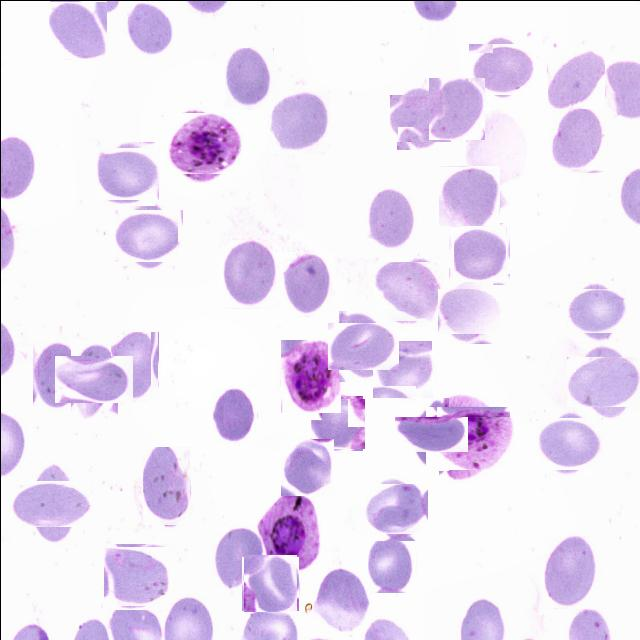red blood cell: (18, 470, 84, 536), (376, 258, 440, 324), (572, 349, 636, 413), (104, 544, 168, 608), (62, 347, 125, 410), (542, 535, 596, 608), (222, 239, 278, 308), (268, 90, 329, 153), (142, 446, 190, 525), (312, 569, 368, 635), (118, 204, 179, 264), (550, 106, 605, 172), (539, 413, 599, 473), (373, 339, 433, 399), (438, 166, 498, 226), (332, 316, 392, 375), (213, 522, 264, 591), (471, 40, 530, 98), (428, 77, 483, 139), (32, 340, 80, 411), (282, 251, 334, 316), (99, 144, 157, 202), (450, 224, 508, 282), (547, 49, 604, 108), (110, 331, 158, 401), (48, 1, 106, 58), (366, 186, 416, 252), (367, 480, 424, 537), (242, 554, 298, 610), (224, 46, 273, 108), (442, 283, 497, 338), (280, 438, 333, 495), (403, 406, 457, 461), (392, 90, 447, 144), (367, 532, 415, 592), (569, 284, 622, 337), (311, 396, 363, 449), (124, 1, 172, 56), (212, 388, 256, 443)
schizont: (432, 400, 508, 476)
trophozoite: (255, 491, 317, 571), (167, 108, 237, 178), (280, 339, 340, 412)
